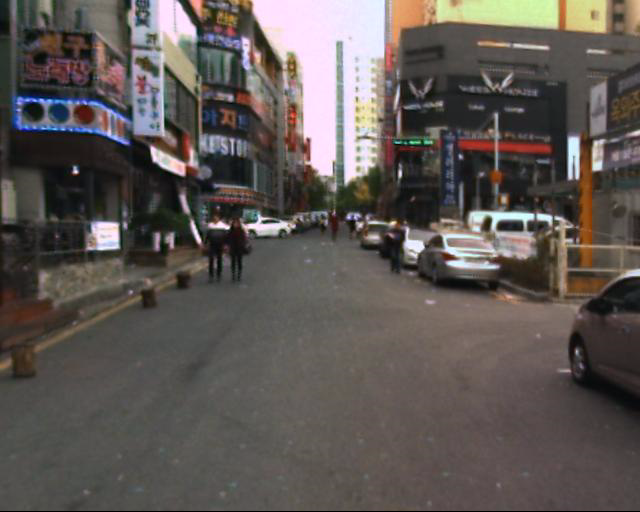person: (200, 201, 238, 293), (226, 205, 259, 297), (384, 219, 414, 283)
